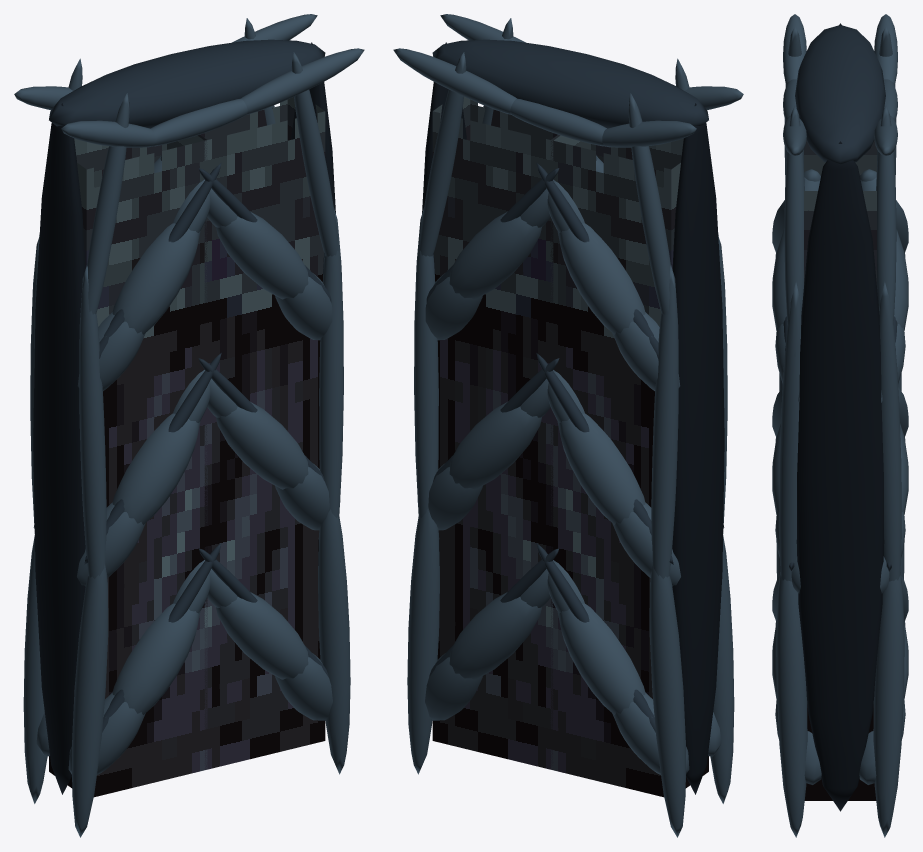
The model's file is CMU3DHiveDoorXenoResin.glb.
The picture shows the model from 3 angles, left to right: view 1: azimuth 30°, elevation 25°; view 2: azimuth 150°, elevation 25°; view 3: azimuth 270°, elevation 25°; orthographic projection. The views are drawn at different scales.
Visible parts, largest first — view 1: closed contracting membrane (×2), diagonal muscular leaf fold (×15), curved jamb tendon (×8), resin jamb tissue (×2), fleshy overhanging lintel, swept lintel fold (×5), raised leaf seam (×6); view 2: closed contracting membrane (×2), diagonal muscular leaf fold (×15), curved jamb tendon (×8), resin jamb tissue (×2), fleshy overhanging lintel, swept lintel fold (×5), raised leaf seam (×6); view 3: resin jamb tissue, curved jamb tendon (×8), fleshy overhanging lintel, diagonal muscular leaf fold (×16), swept lintel fold (×6), closed contracting membrane (×2).
Boxes of the visible parts, x1,y1,x2,y2 form: closed contracting membrane (×2): (49,97,325,797); diagonal muscular leaf fold (×15): (68,179,332,774); curved jamb tendon (×8): (23,52,350,837); resin jamb tissue (×2): (33,42,335,794); fleshy overhanging lintel: (49,39,325,128); swept lintel fold (×5): (14,14,364,147); raised leaf seam (×6): (168,162,257,622); closed contracting membrane (×2): (432,97,708,797); diagonal muscular leaf fold (×15): (425,179,689,774); curved jamb tendon (×8): (407,52,734,837); resin jamb tissue (×2): (422,42,724,794); fleshy overhanging lintel: (432,39,708,128); swept lintel fold (×5): (393,14,743,147); raised leaf seam (×6): (500,162,589,622); resin jamb tissue: (796,141,884,811); curved jamb tendon (×8): (776,26,904,837); fleshy overhanging lintel: (795,25,885,164); diagonal muscular leaf fold (×16): (772,200,908,784); swept lintel fold (×6): (783,14,897,155); closed contracting membrane (×2): (804,140,876,800).
Bounding box in the file's own units: 1.12 × 2.59 × 0.4488.
5 materials, 2 textured.
